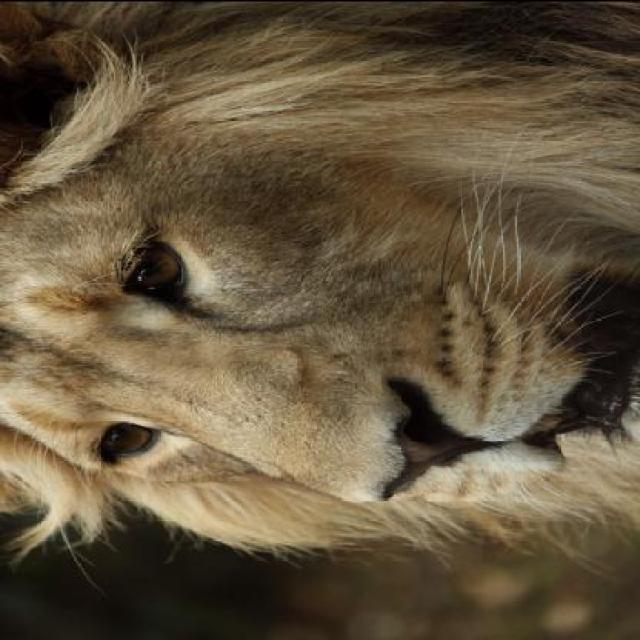Lion: (6, 26, 639, 592)
